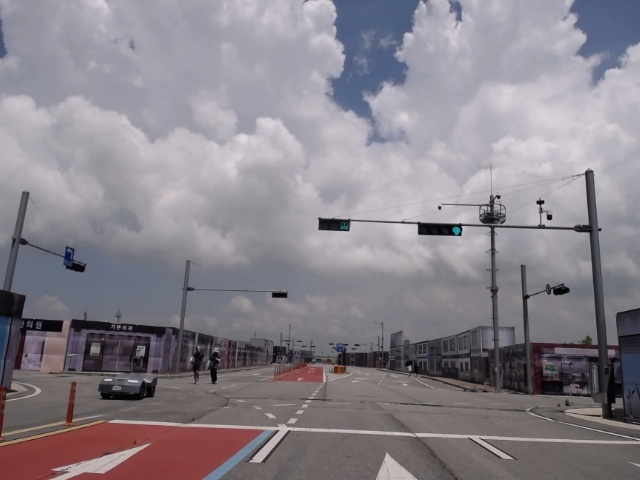straight_green_4: (418, 224, 462, 235)
